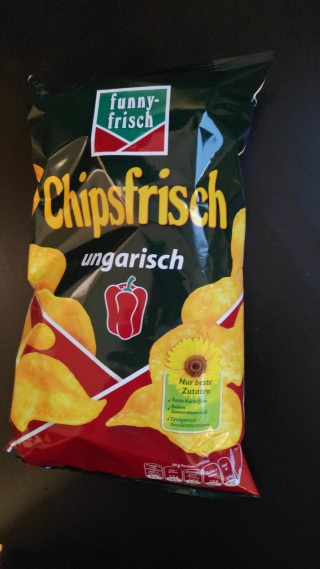chipsfrisch: (2, 51, 273, 498)
